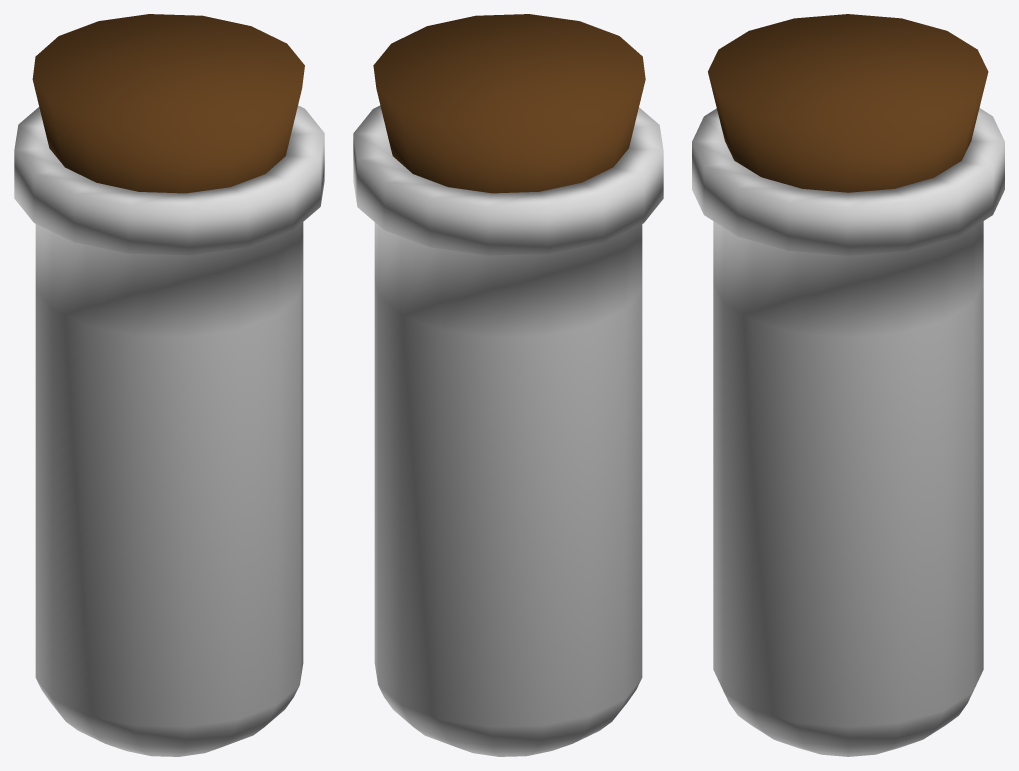
File: Potion8.fbx
The picture shows the model from 3 angles, left to right: view 1: azimuth 30°, elevation 25°; view 2: azimuth 150°, elevation 25°; view 3: azimuth 270°, elevation 25°; orthographic projection.
Parts seen in each view (by area): view 1: Vert.013, Vert.001; view 2: Vert.013, Vert.001; view 3: Vert.013, Vert.001.
Boxes of the visible parts, x1=… form: Vert.013: x1=14, y1=105, x2=324, y2=756; Vert.001: x1=32, y1=14, x2=304, y2=193; Vert.013: x1=353, y1=105, x2=663, y2=756; Vert.001: x1=373, y1=14, x2=645, y2=193; Vert.013: x1=692, y1=108, x2=1004, y2=756; Vert.001: x1=708, y1=14, x2=988, y2=192.
Size of the model in its own units: 43.79 by 102 by 43.79.
